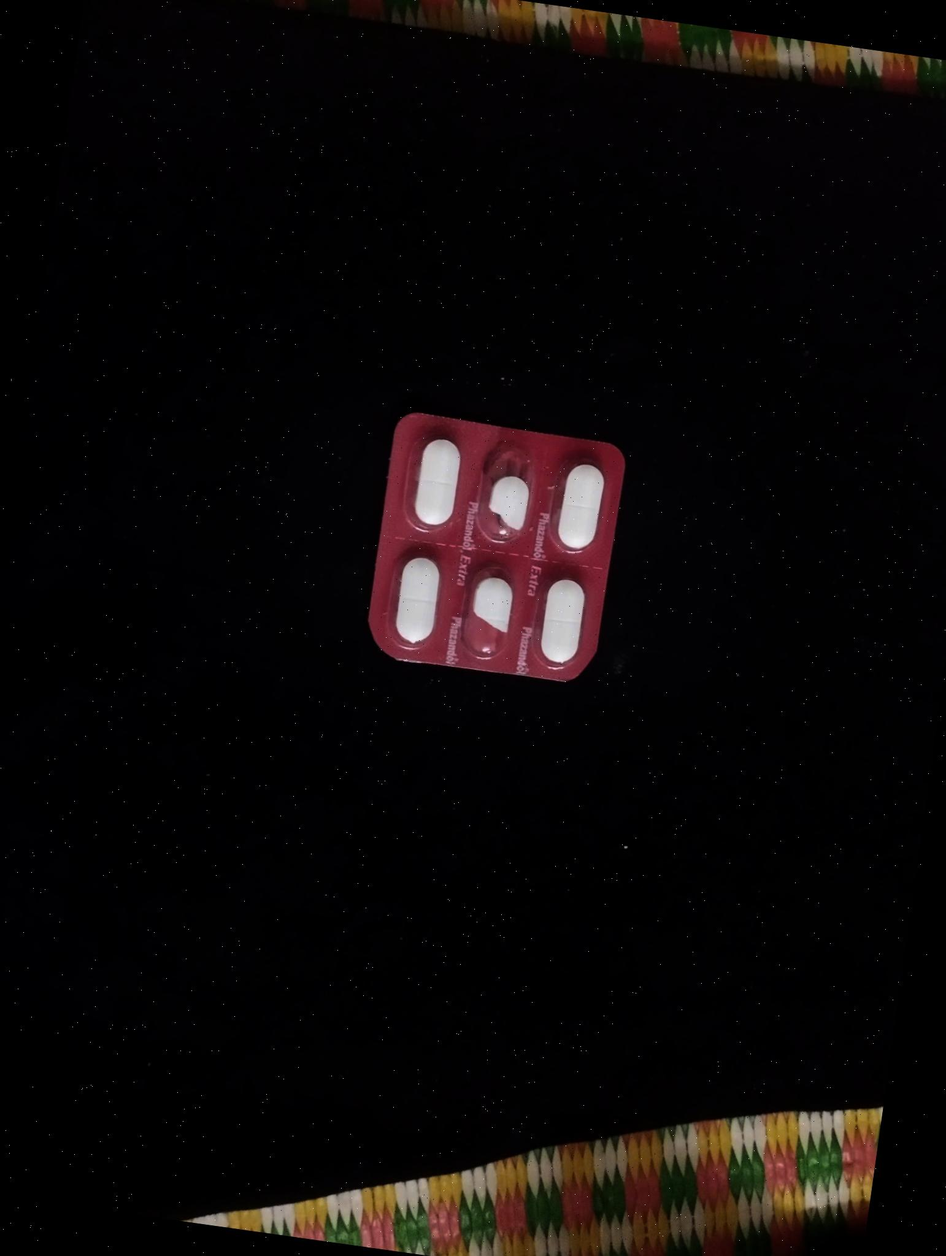Full: (545, 445, 618, 564), (399, 424, 471, 538), (382, 546, 453, 650), (528, 570, 593, 670)
Partial: (456, 560, 523, 663), (471, 443, 534, 547)
